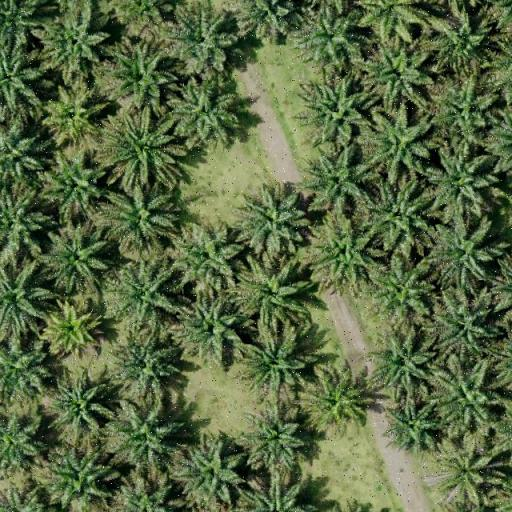Ganoderma: (48, 311, 90, 350)
